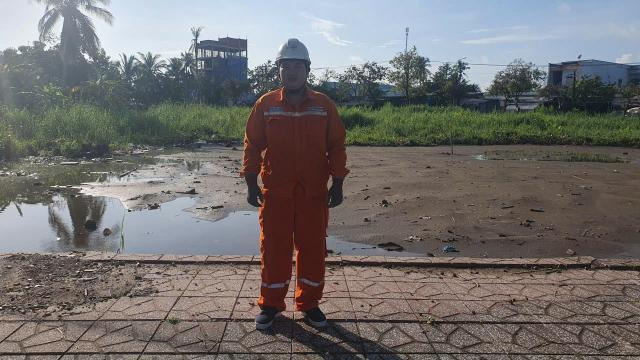gloves: (239, 164, 268, 212), (326, 172, 350, 211)
helmet: (266, 35, 327, 66)
shoes: (251, 297, 287, 329), (296, 297, 332, 329)
